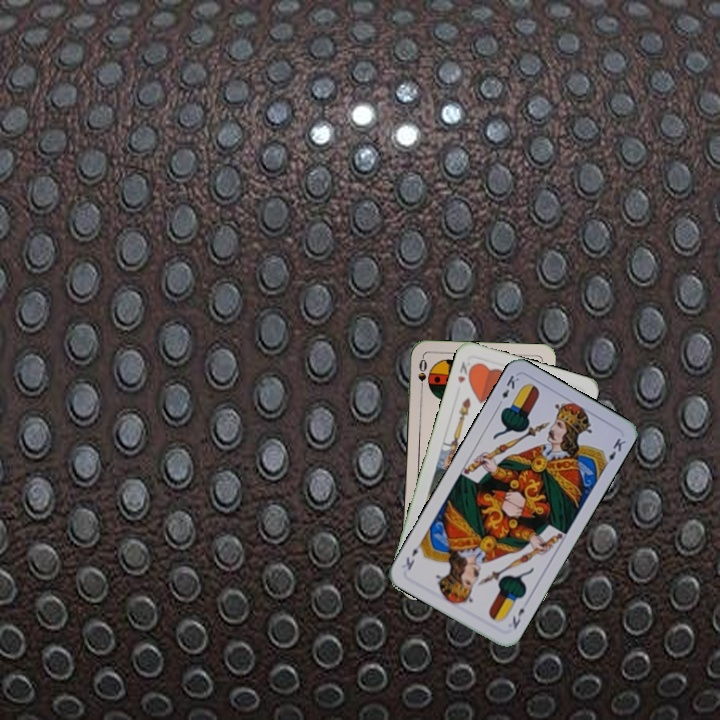EK: (494, 371, 522, 409), (508, 604, 527, 632)
HK: (453, 357, 476, 386)
SO: (414, 355, 429, 395)
